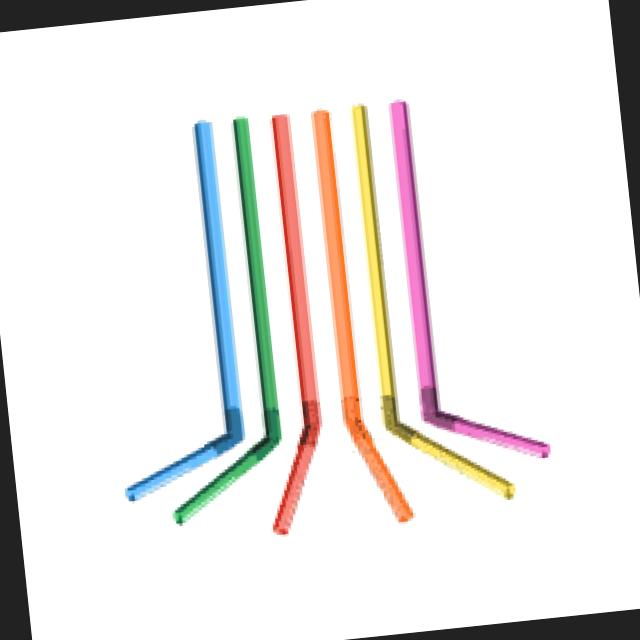plastic straw: (353, 107, 512, 498), (393, 103, 546, 457), (176, 120, 281, 525), (134, 125, 243, 498), (272, 115, 321, 535), (316, 112, 374, 465)
